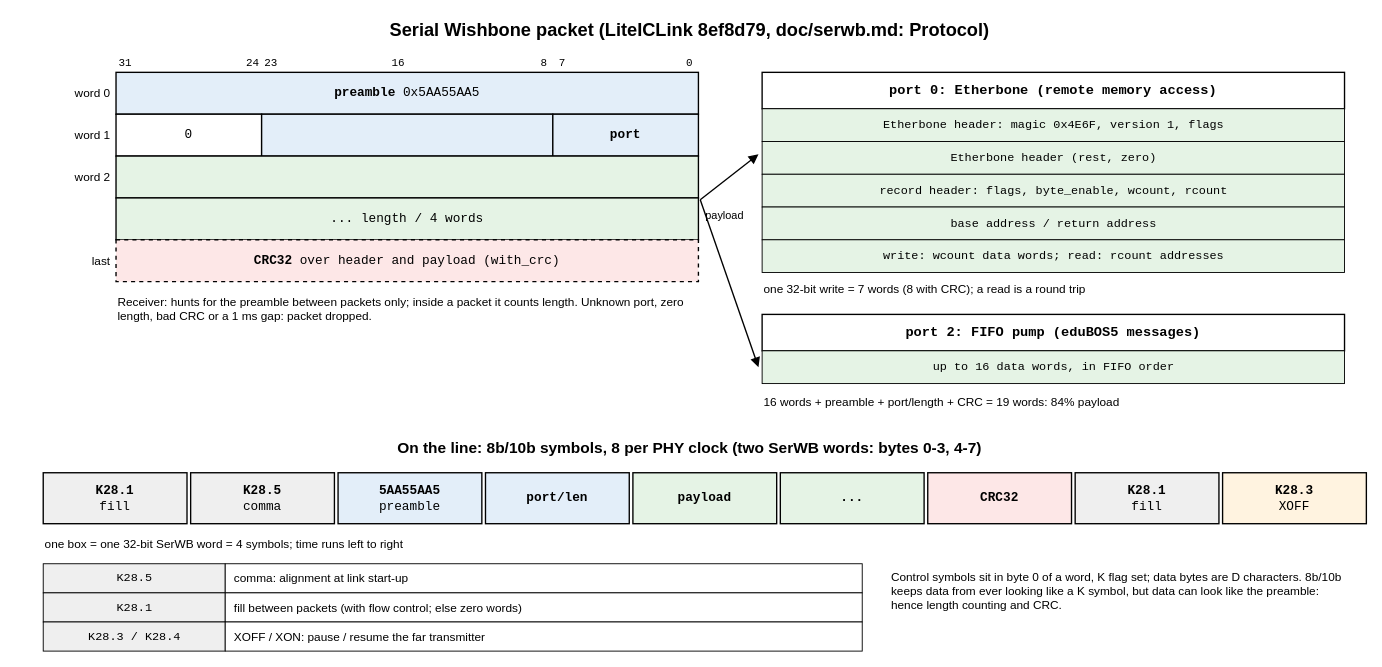
The diagram is 1382 pixels wide and 667 high, and some of its shapes have lost their labels. Each missing label, with the box of its shape:
length (bytes): (261, 113, 553, 156)
payload word 0: (115, 155, 699, 198)
